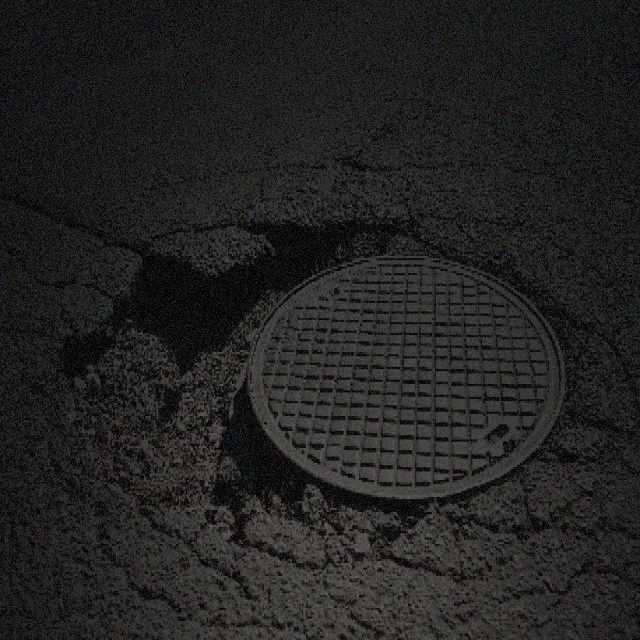pothole: (51, 205, 372, 535)
